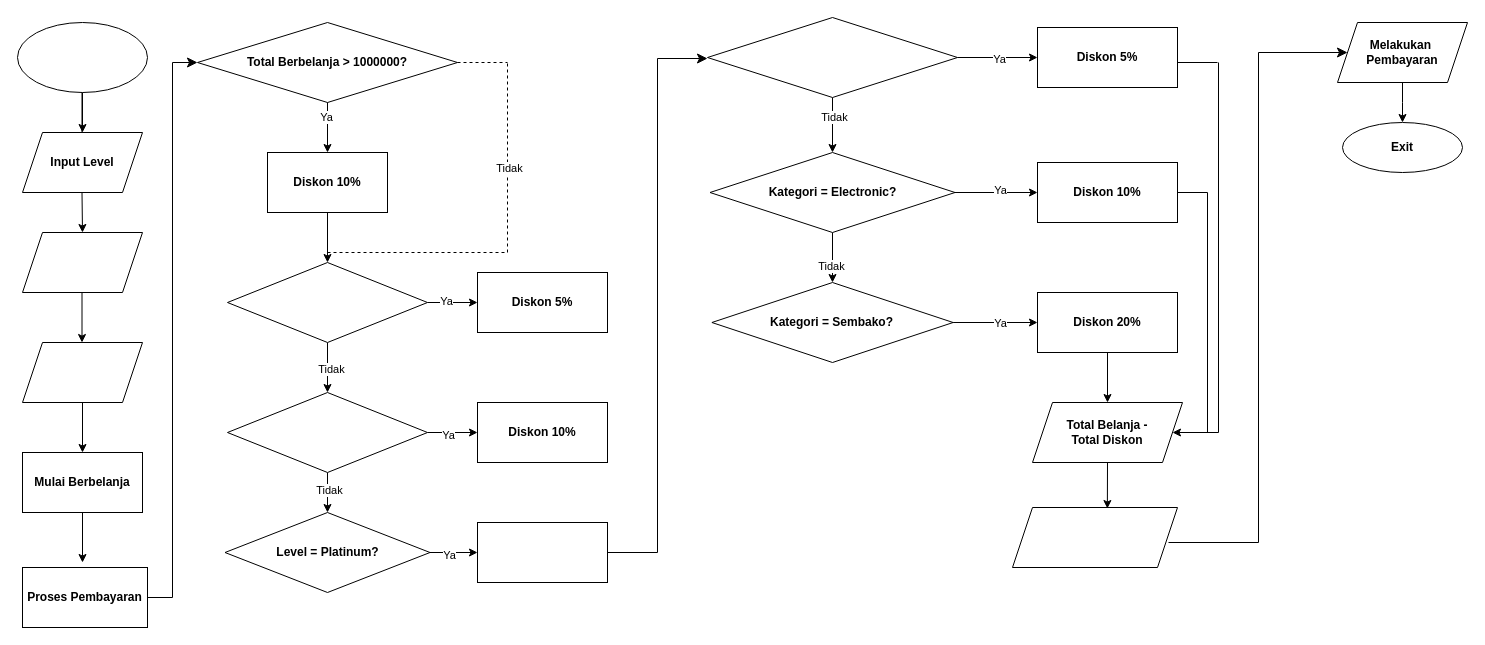
Some shapes in this 1485 by 645 pixel diagram are drawn without their labels. Here are the shapes that lost their labels. From the top down, the centre of each, then its label:
At (82,57): "Start".
At (832,57): "Kategori = ATK?".
At (82,262): "Input Kategori".
At (327,302): "Level = Silver?".
At (82,372): "Input Barang".
At (327,432): "Level = Gold?".
At (542,552): "Diskon 15%".
At (1095,537): "Total Harga".
